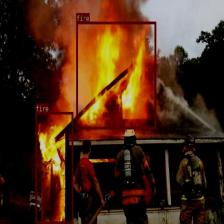fire: (76, 21, 156, 128), (35, 111, 73, 224)
